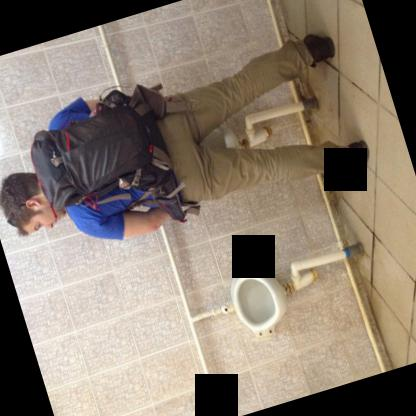backpack: (29, 102, 154, 212)
